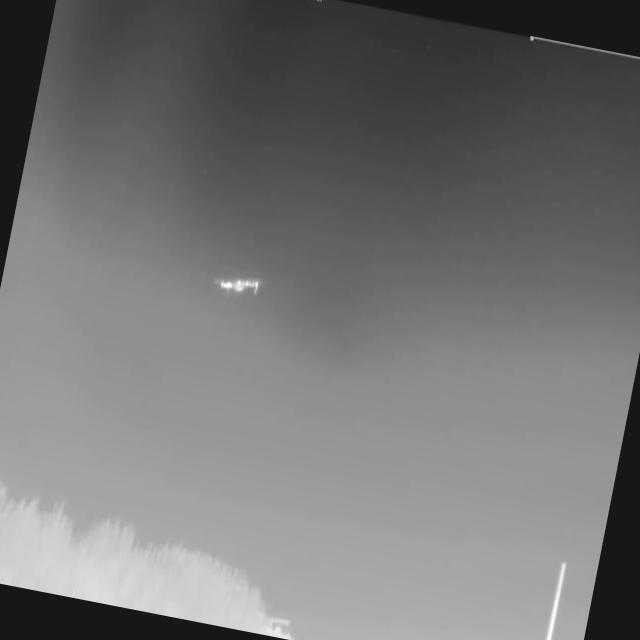DRONE: (212, 262, 270, 306)
